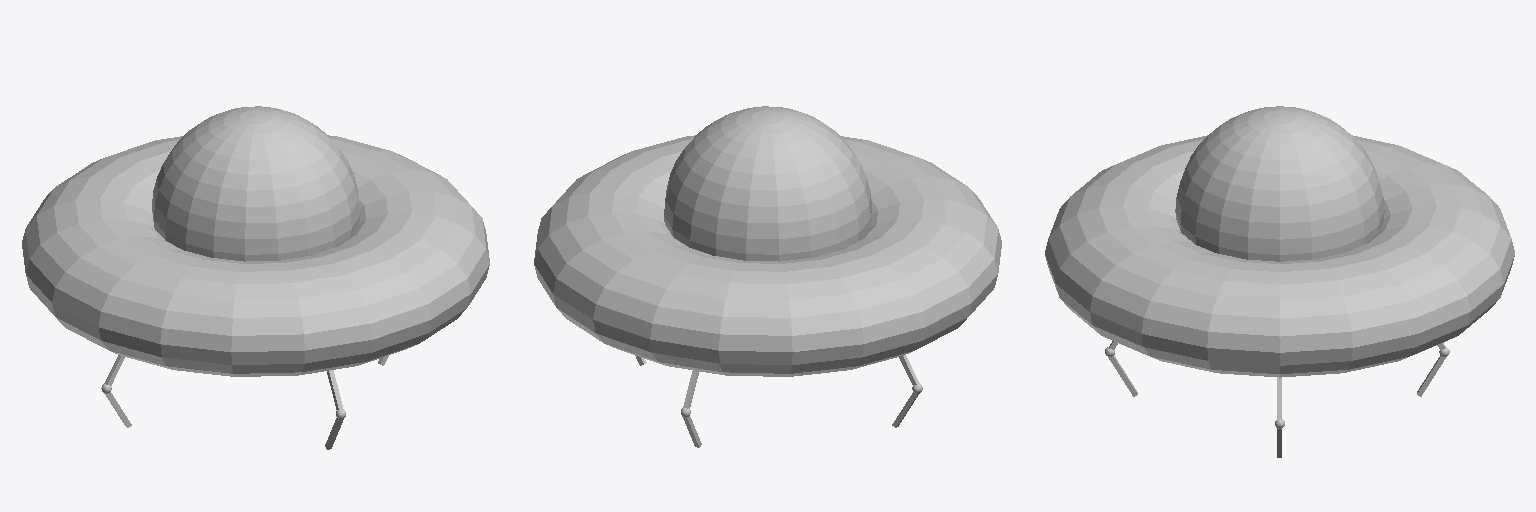
The model's file is Lunar_Lander_lander.obj.
3 views of the same model, side by side, from view 1: azimuth 30°, elevation 25°; view 2: azimuth 150°, elevation 25°; view 3: azimuth 270°, elevation 25° (orthographic).
Visible parts, largest first — view 1: polySurface1, polySurface15, polySurface7; view 2: polySurface1, polySurface11, polySurface7; view 3: polySurface1.
Boxes of the visible parts, <box> form: polySurface1: <box>22,106,489,376</box>; polySurface15: <box>325,370,345,449</box>; polySurface7: <box>101,355,131,427</box>; polySurface1: <box>534,106,1001,376</box>; polySurface11: <box>681,370,701,447</box>; polySurface7: <box>892,355,922,427</box>; polySurface1: <box>1045,106,1514,377</box>.
Size of the model in its own units: 9 by 5.9 by 9.